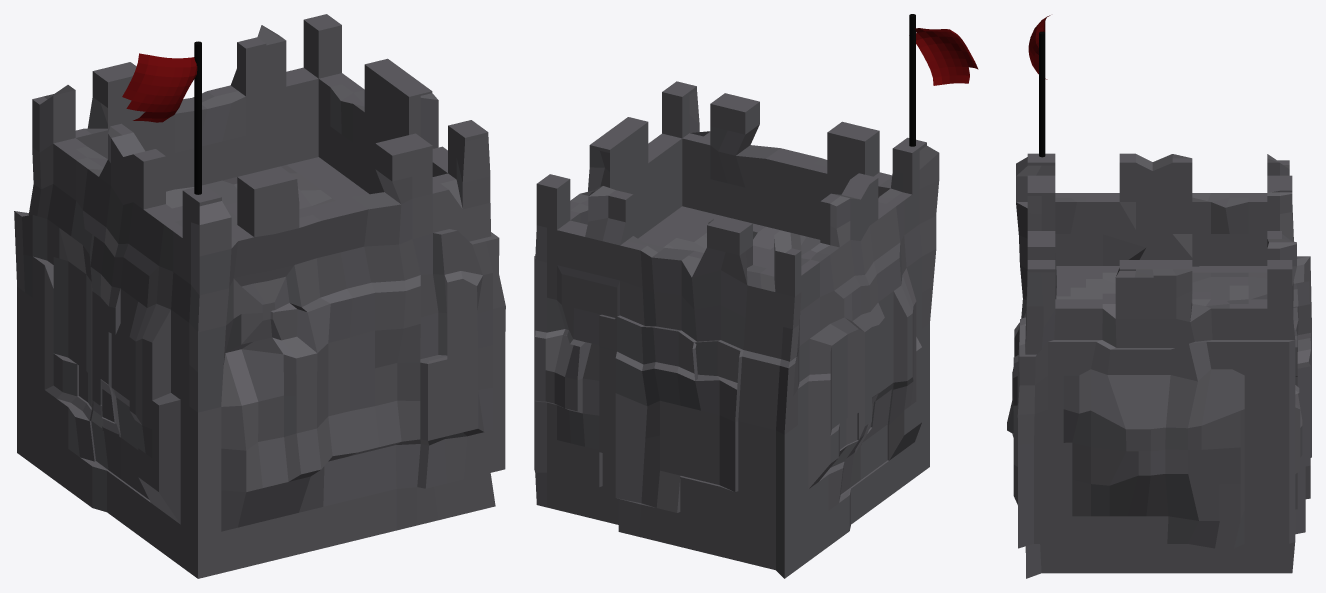
The picture shows the model from 3 angles, left to right: view 1: azimuth 30°, elevation 25°; view 2: azimuth 150°, elevation 25°; view 3: azimuth 270°, elevation 25°; orthographic projection. The views are drawn at different scales.
Parts seen in each view (by area): view 1: Cube.001, Plane.001, Cylinder.001; view 2: Cube.001, Plane.001, Cylinder.001; view 3: Cube.001, Cylinder.001, Plane.001.
Boxes of the visible parts, box(x1,y1,x2,y2) form: Cube.001: box(14, 14, 505, 578); Plane.001: box(122, 53, 197, 122); Cylinder.001: box(194, 41, 201, 194); Cube.001: box(534, 81, 939, 578); Plane.001: box(915, 28, 978, 85); Cylinder.001: box(909, 14, 915, 146); Cube.001: box(1007, 153, 1311, 578); Cylinder.001: box(1039, 31, 1045, 157); Plane.001: box(1028, 15, 1050, 79).
Size of the model in its own units: 1205 by 1569 by 1005.
